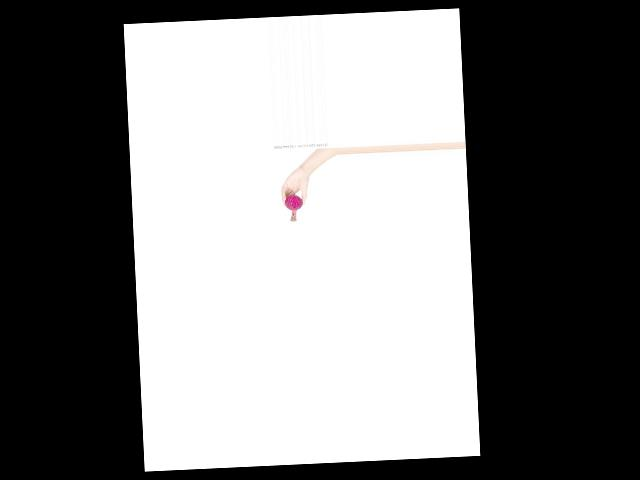beet: (283, 195, 303, 222)
